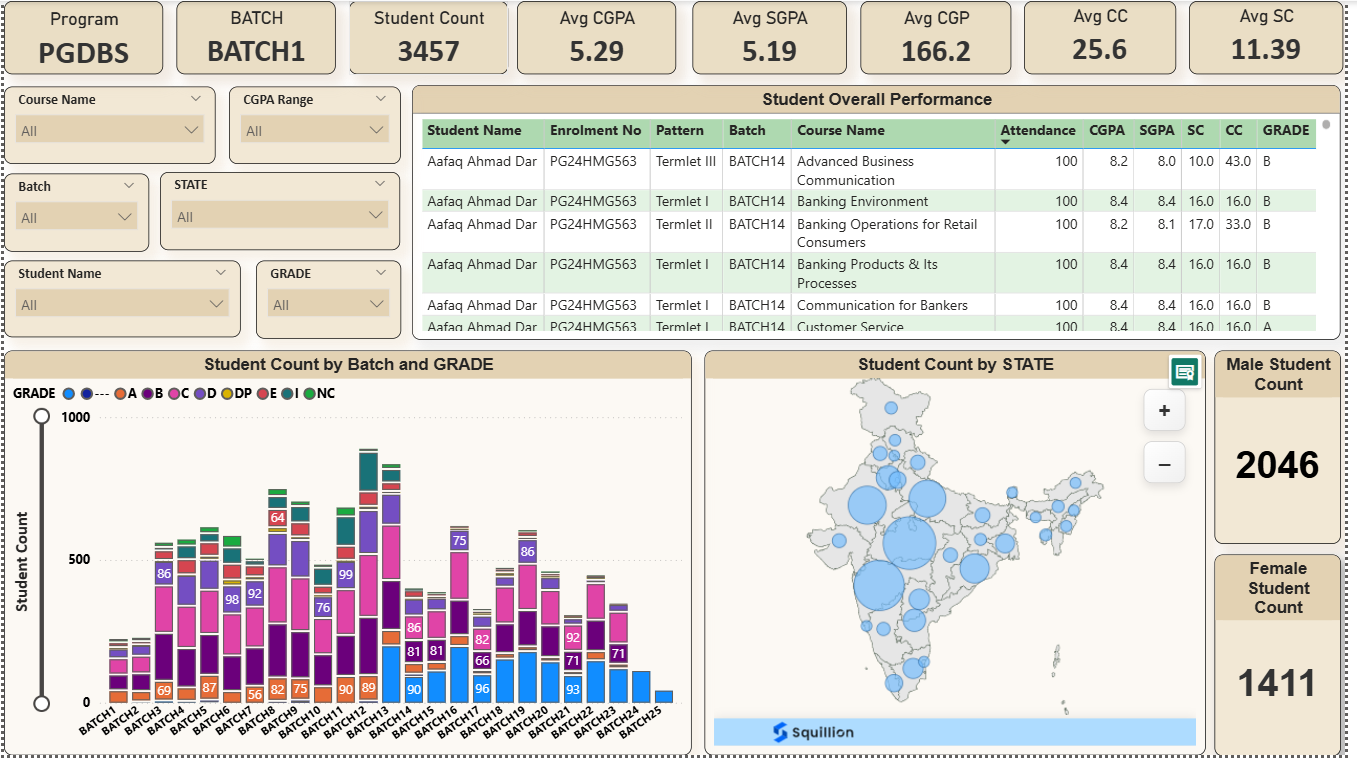

The dashboard page shown, as its layout file describes it:
{"tool":"powerbi","page":{"name":"Student Overall Performance","canvas":[1280,720],"ordinal":0},"visuals":[{"type":"tableEx","title":"Student Overall Performance","fields":{"Values":["Master Table.STUDENT_NAME","Master Table.ENROLMENT_NO","Master Table.PATTERN","Master Table.Batch_Clean","Master Table.COURSE_NAME","Sum(Master Table.TOTAL_ATTENDED_CLASS_PERCENTAGE)","Sum(Master Table.CGPA)","Master Table.Avg SGPA","Master Table.Avg SC","Master Table.Avg CC","Master Table.GRADE_DESC"]},"box":[390,80,886.7,243.3],"z":0},{"type":"slicer","fields":{"Values":["Master Table.COURSE_NAME"]},"box":[0,81.1,202,74],"z":1000},{"type":"slicer","fields":{"Values":["Master Table.Value Range"]},"box":[214.7,81.1,163.8,74],"z":2000},{"type":"slicer","fields":{"Values":["Master Table.Batch_Clean"]},"box":[0,165.4,138.4,74.8],"z":3000},{"type":"slicer","fields":{"Values":["Master Table.STATE"]},"box":[149.5,163.8,229,74.8],"z":4000},{"type":"slicer","fields":{"Values":["Master Table.STUDENT_NAME"]},"box":[0,248.1,225.9,73.2],"z":5000},{"type":"slicer","fields":{"Values":["Master Table.GRADE_DESC"]},"box":[240.2,248.1,138.4,74.8],"z":6000},{"type":"columnChart","fields":{"Category":["Batch Wise Table.Batch"],"Y":["Master Table.Student Count"],"Series":["Master Table.GRADE_DESC"]},"box":[0,333.3,656.7,386.7],"z":7000},{"type":"advanceCardE03760C5AB684758B56AA29F9E6C257B","title":"Program","fields":{"mainMeasure":["Min(Master Table.PROGRAM)"]},"box":[0,0,152,70],"z":8000},{"type":"advanceCardE03760C5AB684758B56AA29F9E6C257B","title":"BATCH","fields":{"mainMeasure":["Min(Master Table.Batch_Clean)"]},"box":[165.4,0,152,70],"z":9000},{"type":"advanceCardE03760C5AB684758B56AA29F9E6C257B","title":"Student Count","fields":{"mainMeasure":["Master Table.Student Count"]},"box":[329.3,0,152,70],"z":10000},{"type":"advanceCardE03760C5AB684758B56AA29F9E6C257B","title":"Avg CGPA","fields":{"mainMeasure":["Master Table.Avg CGPA"]},"box":[489.9,0,152,70],"z":11000},{"type":"advanceCardE03760C5AB684758B56AA29F9E6C257B","title":"Avg SGPA","fields":{"mainMeasure":["Master Table.Avg SGPA"]},"box":[656.9,0,147,70],"z":12000},{"type":"advanceCardE03760C5AB684758B56AA29F9E6C257B","title":"Avg CGP","fields":{"mainMeasure":["Master Table.Avg CGP"]},"box":[817.6,0,144,70],"z":13000},{"type":"advanceCardE03760C5AB684758B56AA29F9E6C257B","title":"Avg CC","fields":{"mainMeasure":["Master Table.Avg CC"]},"box":[973.5,0,145,70],"z":14000},{"type":"advanceCardE03760C5AB684758B56AA29F9E6C257B","title":"Avg SC","fields":{"mainMeasure":["Master Table.Avg SC"]},"box":[1130.9,0,147,70],"z":15000},{"type":"MapBySquillion","fields":{"category":["Master Table.STATE","Master Table.CITY"],"bubble":["Master Table.Student Count"]},"box":[668.3,333.3,478.3,386.7],"z":16000},{"type":"advanceCardE03760C5AB684758B56AA29F9E6C257B","title":"Male Student Count","fields":{"mainMeasure":["Master Table.Student Count (Male)"]},"box":[1156.4,334,120.9,184.5],"z":17000},{"type":"advanceCardE03760C5AB684758B56AA29F9E6C257B","title":"Female Student Count","fields":{"mainMeasure":["Master Table.Student Count (Female)"]},"box":[1156.4,528.1,120.9,192.5],"z":18000}]}

Visuals, with their boxes in screenshot pixels (x1, y1, x2, y2), scaled from the page's 1280x720 canvas onto the 1357x759 screenshot:
"Student Overall Performance" tableEx: [left=413, top=84, right=1354, bottom=341]
slicer - Master Table.COURSE_NAME: [left=0, top=85, right=214, bottom=164]
slicer - Master Table.Value Range: [left=228, top=85, right=401, bottom=164]
slicer - Master Table.Batch_Clean: [left=0, top=174, right=147, bottom=253]
slicer - Master Table.STATE: [left=158, top=173, right=401, bottom=252]
slicer - Master Table.STUDENT_NAME: [left=0, top=262, right=239, bottom=339]
slicer - Master Table.GRADE_DESC: [left=255, top=262, right=401, bottom=340]
columnChart - Batch Wise Table.Batch x Master Table.Student Count: [left=0, top=351, right=696, bottom=758]
"Program" advanceCardE03760C5AB684758B56AA29F9E6C257B: [left=0, top=0, right=161, bottom=74]
"BATCH" advanceCardE03760C5AB684758B56AA29F9E6C257B: [left=175, top=0, right=336, bottom=74]
"Student Count" advanceCardE03760C5AB684758B56AA29F9E6C257B: [left=349, top=0, right=510, bottom=74]
"Avg CGPA" advanceCardE03760C5AB684758B56AA29F9E6C257B: [left=519, top=0, right=681, bottom=74]
"Avg SGPA" advanceCardE03760C5AB684758B56AA29F9E6C257B: [left=696, top=0, right=852, bottom=74]
"Avg CGP" advanceCardE03760C5AB684758B56AA29F9E6C257B: [left=867, top=0, right=1019, bottom=74]
"Avg CC" advanceCardE03760C5AB684758B56AA29F9E6C257B: [left=1032, top=0, right=1186, bottom=74]
"Avg SC" advanceCardE03760C5AB684758B56AA29F9E6C257B: [left=1199, top=0, right=1355, bottom=74]
MapBySquillion - Master Table.STATE x Master Table.CITY: [left=709, top=351, right=1216, bottom=758]
"Male Student Count" advanceCardE03760C5AB684758B56AA29F9E6C257B: [left=1226, top=352, right=1354, bottom=547]
"Female Student Count" advanceCardE03760C5AB684758B56AA29F9E6C257B: [left=1226, top=557, right=1354, bottom=758]
